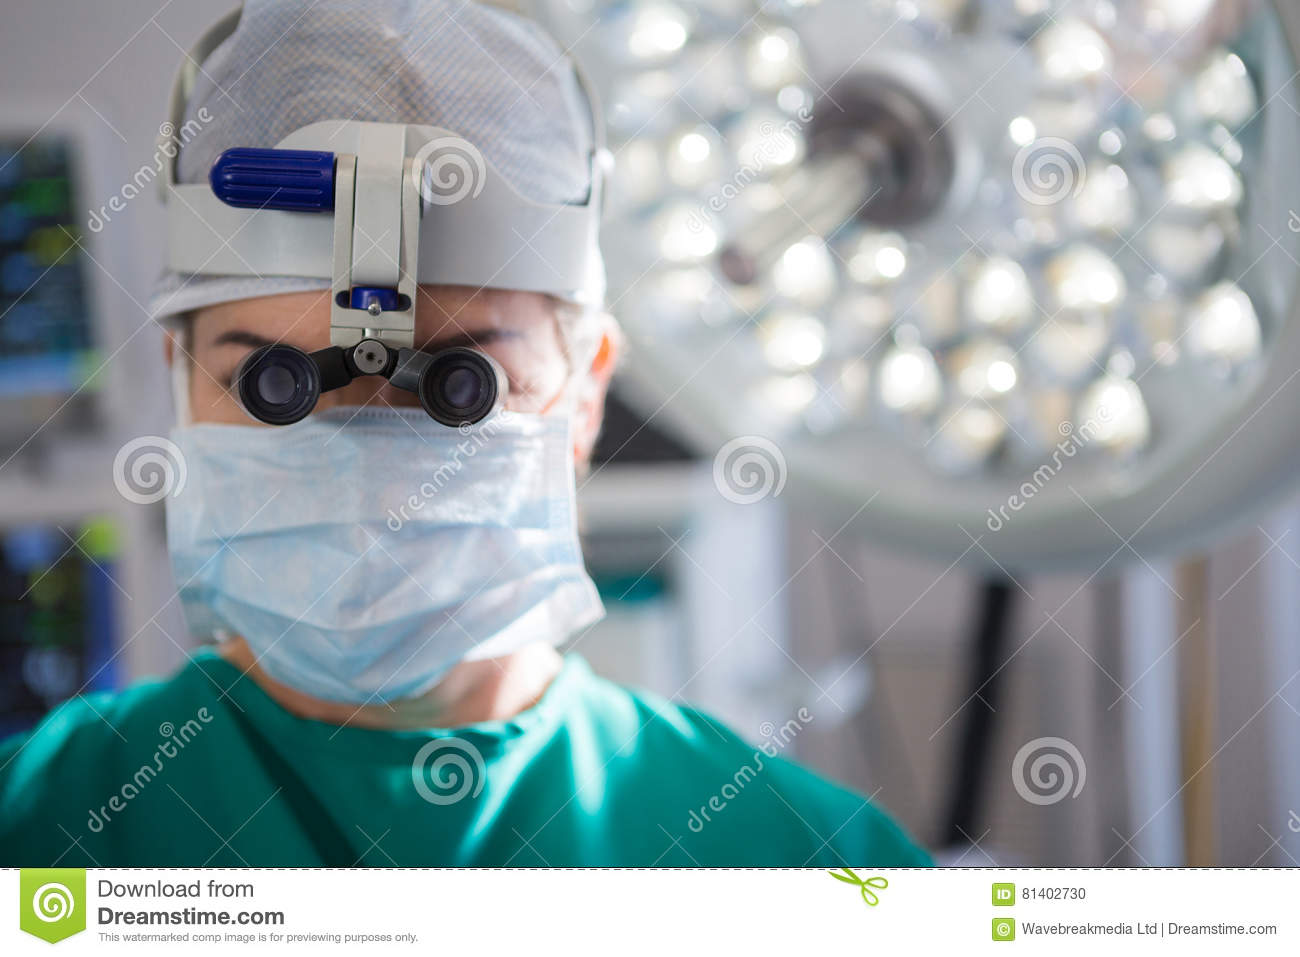mask: (157, 389, 604, 716)
